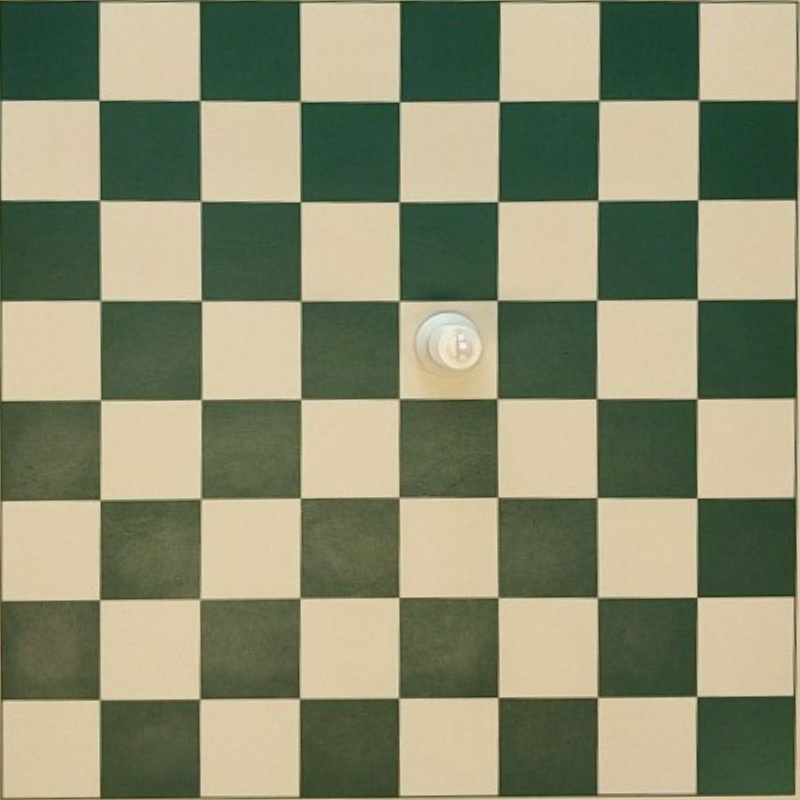white-king: (416, 312, 482, 372)
